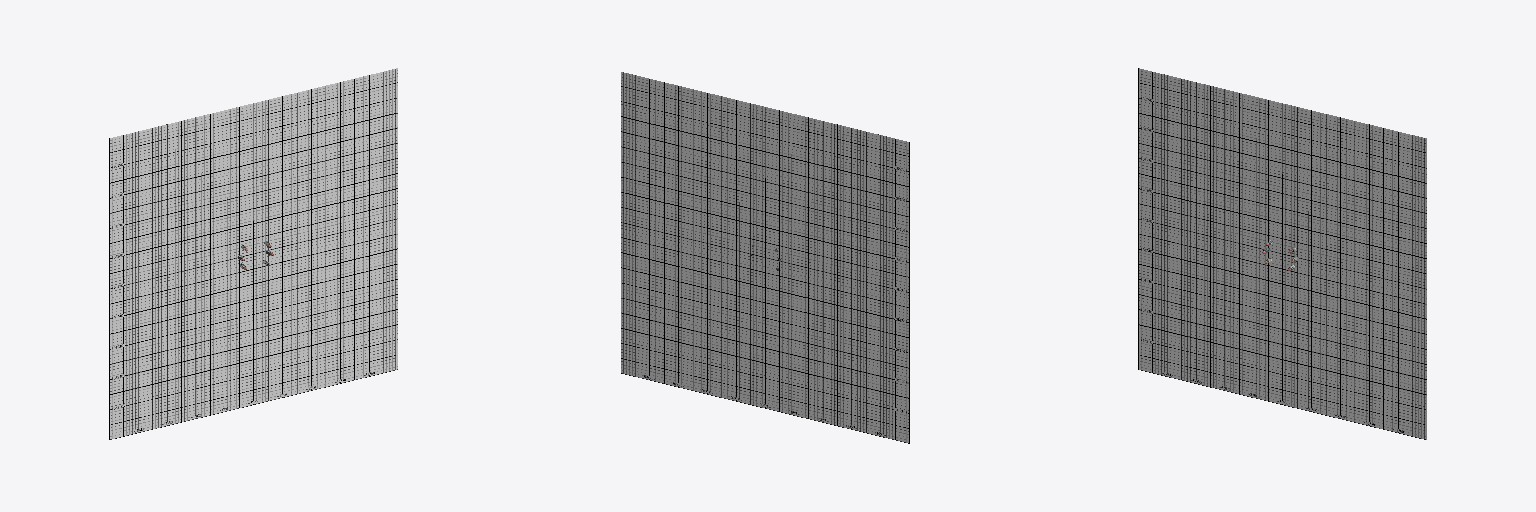
3 views of the same model, side by side, from view 1: azimuth 30°, elevation 25°; view 2: azimuth 150°, elevation 25°; view 3: azimuth 330°, elevation 25° (orthographic).
Visible parts, largest first — view 1: Square100m; view 2: Square100m; view 3: Square100m.
Part boxes in pixels (x1,y1,x2,y2): Square100m: (109, 68, 397, 439); Square100m: (621, 72, 909, 443); Square100m: (1138, 68, 1426, 439).
Bounding box in the file's own units: 100 × 100 × 3.
Materials: 3 (3 with a texture image).